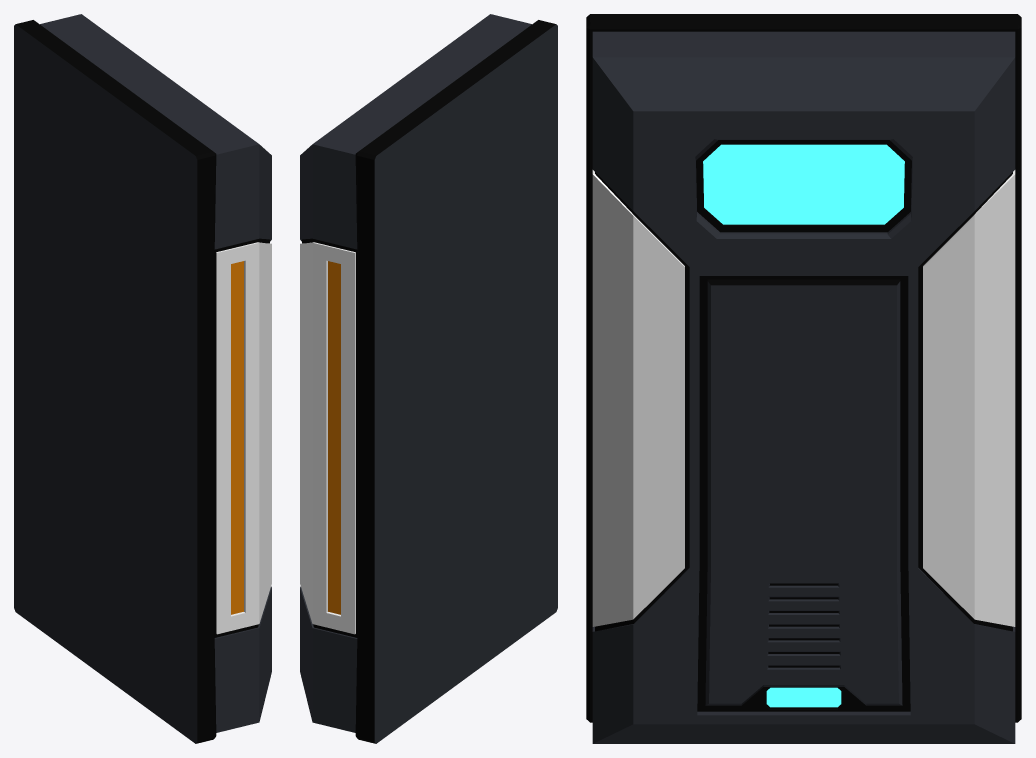
Rendered from SM_Wall_Light_Module.fbx.
3 renders of one model, left to right at view 1: azimuth 30°, elevation 25°; view 2: azimuth 150°, elevation 25°; view 3: azimuth 270°, elevation 25°, orthographic. The views are drawn at different scales.
Parts seen in each view (by area): view 1: SM_Wall_Light_Module; view 2: SM_Wall_Light_Module; view 3: SM_Wall_Light_Module.
Boxes of the visible parts, box(x1,y1,x2,y2) form: SM_Wall_Light_Module: box(14, 14, 271, 743); SM_Wall_Light_Module: box(300, 14, 557, 743); SM_Wall_Light_Module: box(586, 14, 1021, 743).
Size of the model in its own units: 3.03 by 18.03 by 10.19.
